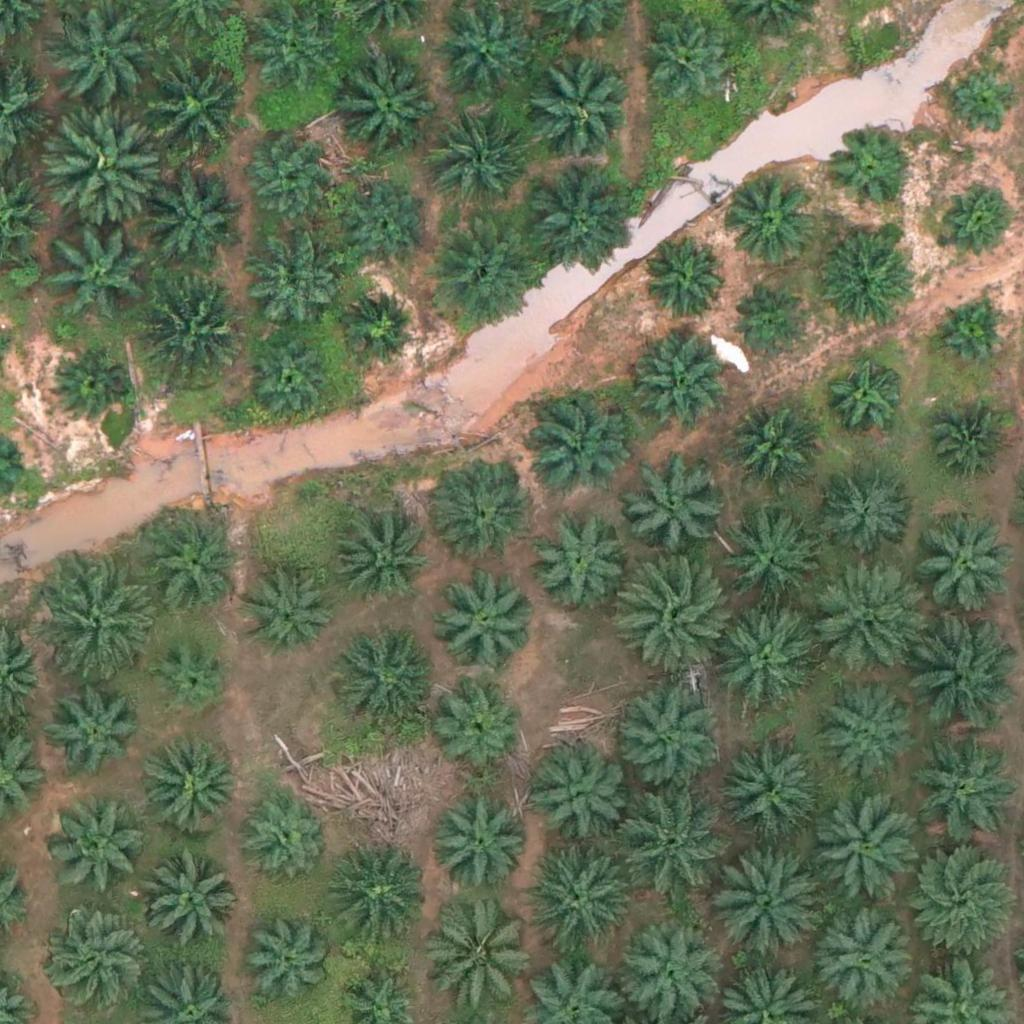Kelapa_Sawit: (808, 559, 921, 673), (40, 567, 153, 681), (54, 108, 167, 221), (328, 43, 441, 156), (427, 223, 540, 336), (516, 44, 629, 157), (900, 837, 1013, 950), (807, 794, 920, 907), (518, 838, 631, 951), (53, 2, 165, 116), (905, 615, 1017, 729), (49, 217, 161, 330), (142, 48, 254, 161), (140, 269, 252, 382), (421, 104, 533, 217), (520, 167, 632, 280), (713, 843, 825, 956), (617, 788, 729, 901), (611, 678, 723, 791), (618, 558, 730, 671), (427, 901, 539, 1014), (142, 171, 242, 272), (145, 515, 245, 616), (240, 238, 340, 339), (812, 237, 912, 338), (913, 517, 1013, 618), (625, 454, 725, 555), (523, 393, 623, 494), (431, 458, 531, 559), (331, 507, 431, 608), (815, 907, 915, 1008), (814, 678, 914, 779), (713, 608, 813, 709), (717, 741, 817, 842), (528, 745, 628, 846), (433, 793, 533, 894), (436, 568, 536, 669), (332, 628, 432, 729), (45, 909, 145, 1010), (628, 340, 728, 440), (527, 509, 627, 609), (911, 740, 1011, 840), (816, 460, 916, 560), (723, 515, 823, 615), (327, 847, 427, 947), (141, 736, 241, 836), (141, 849, 241, 949), (49, 794, 149, 894), (336, 283, 424, 371), (645, 14, 733, 102), (246, 570, 334, 658), (251, 9, 338, 97), (247, 134, 334, 222), (249, 338, 336, 426), (342, 179, 429, 267), (829, 125, 916, 213), (728, 405, 815, 493), (924, 406, 1011, 494), (723, 174, 810, 262), (641, 237, 728, 325), (436, 680, 523, 768), (243, 914, 330, 1002), (240, 791, 327, 879), (50, 691, 137, 779), (51, 346, 126, 422), (154, 640, 229, 716), (826, 359, 901, 435), (932, 299, 1007, 375), (938, 182, 1013, 258), (736, 290, 811, 365)
